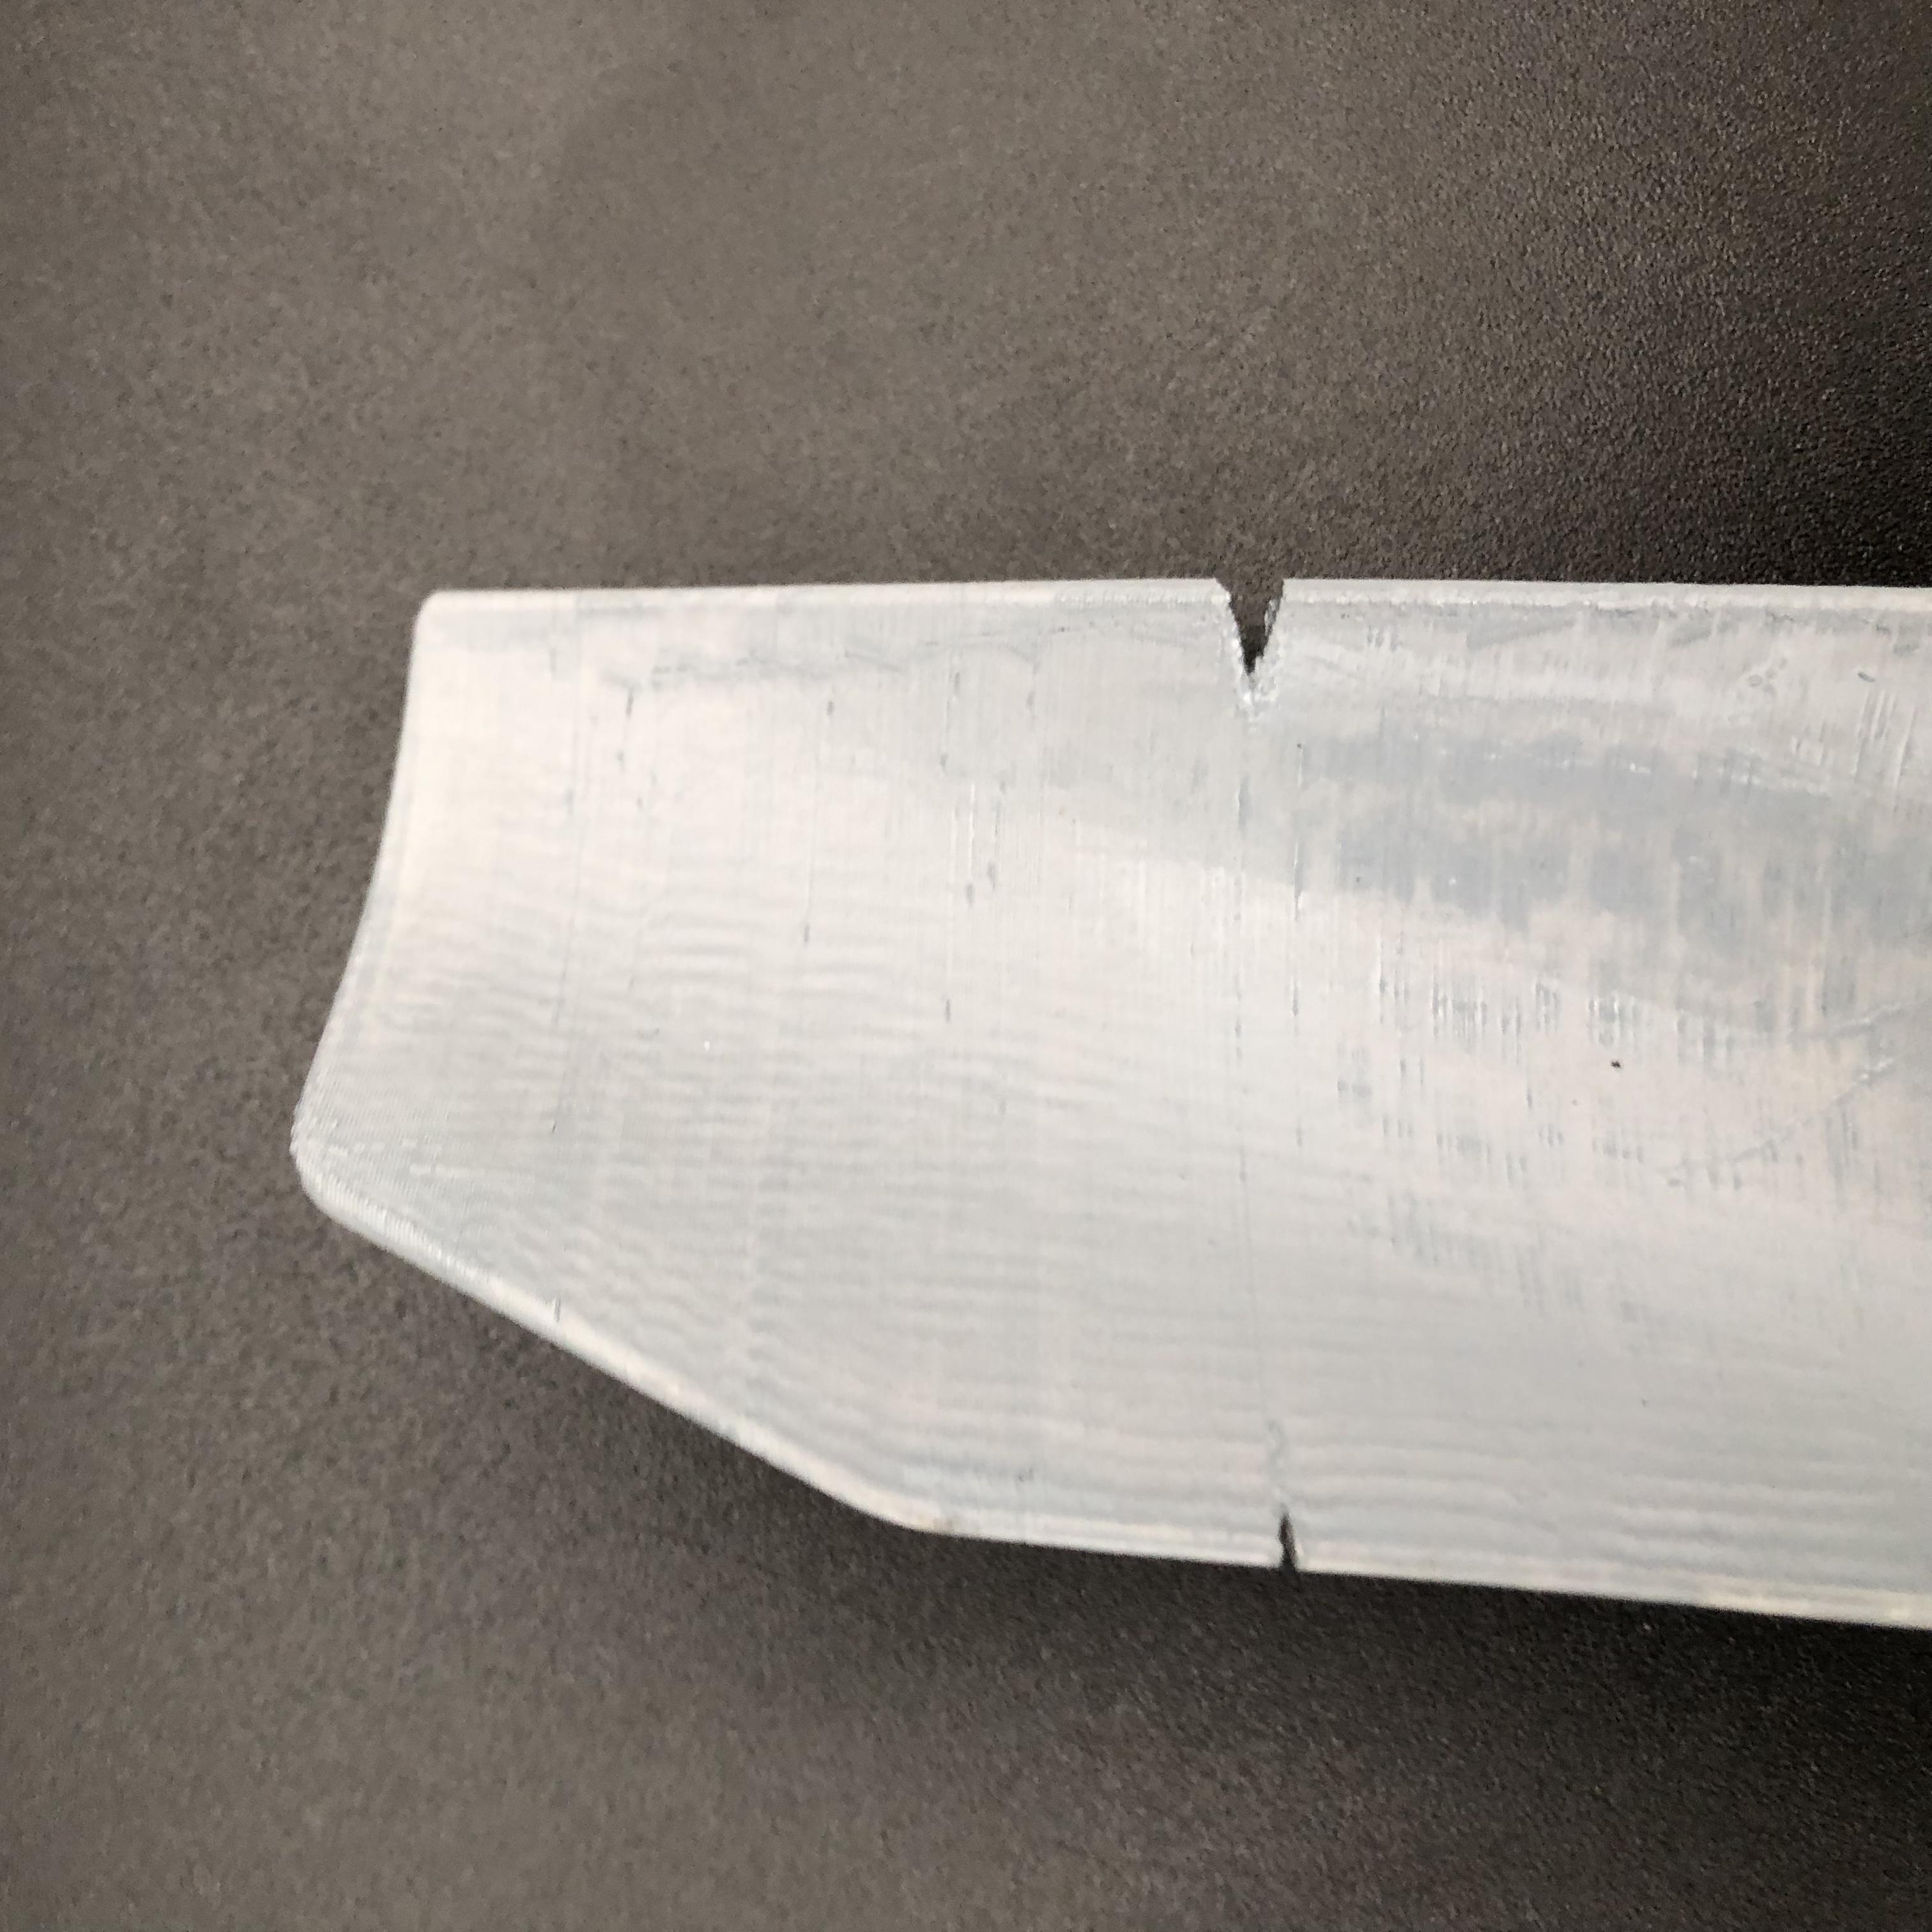groove: (1203, 587, 1311, 699), (1265, 1507, 1322, 1573)
